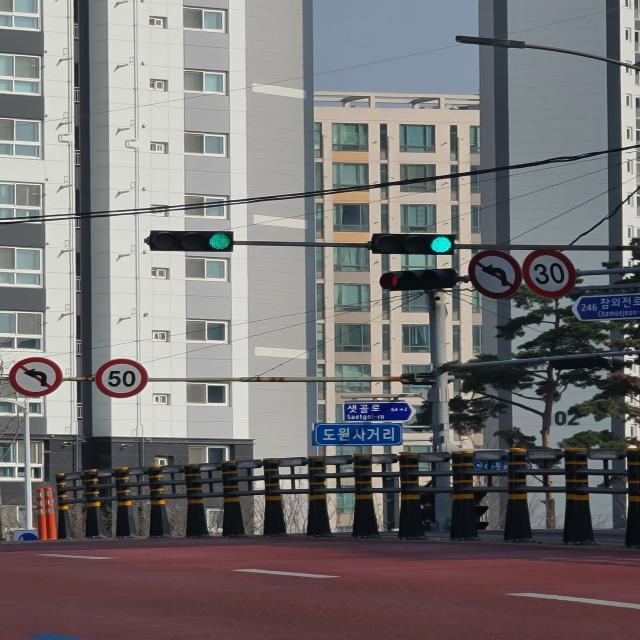Green Light: (208, 230, 232, 252), (428, 235, 452, 254)
Red Light: (382, 272, 403, 288)
